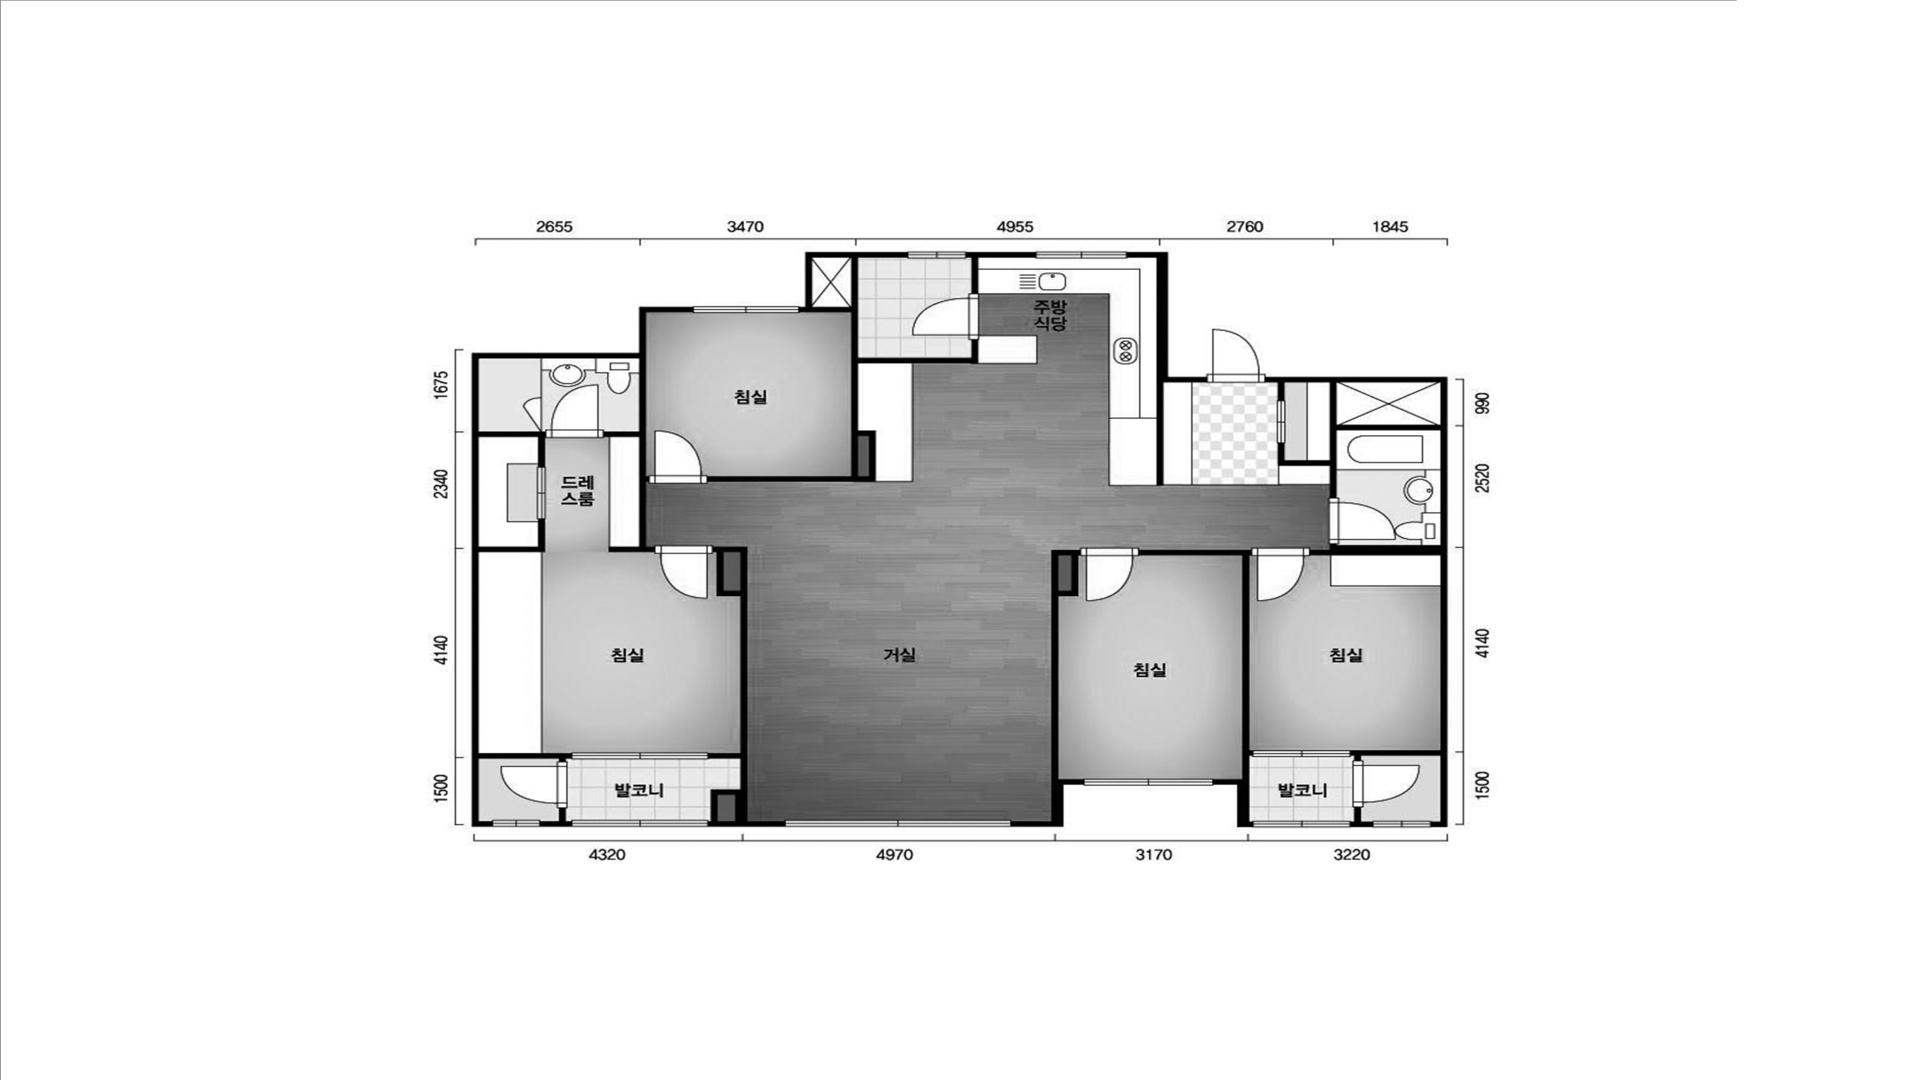background: (0, 0, 1920, 1080)
door: (545, 384, 604, 439), (1251, 547, 1311, 603), (1080, 547, 1139, 603), (655, 545, 713, 600), (649, 430, 708, 484), (1207, 328, 1266, 382), (1329, 497, 1396, 543), (1353, 761, 1420, 807), (500, 762, 567, 808), (911, 293, 978, 339), (522, 397, 542, 431), (537, 467, 546, 518)
wall: (472, 307, 694, 827), (1266, 377, 1448, 827), (708, 257, 978, 481), (1138, 550, 1253, 779), (1278, 382, 1441, 497), (708, 547, 748, 822), (1126, 252, 1207, 382), (604, 357, 655, 553), (1051, 550, 1080, 779), (799, 252, 909, 313), (1010, 779, 1084, 827), (479, 431, 546, 467), (479, 518, 546, 553), (1213, 779, 1253, 827), (1309, 543, 1441, 555), (716, 551, 741, 596), (1350, 750, 1441, 761), (479, 753, 572, 762), (1059, 555, 1079, 596), (858, 430, 876, 476), (1156, 382, 1163, 485), (965, 252, 1036, 258), (708, 822, 785, 827), (972, 257, 978, 294), (539, 822, 572, 827), (1278, 382, 1284, 401), (1350, 822, 1373, 827), (1354, 807, 1361, 822), (559, 808, 566, 822)
window: (785, 820, 1011, 827), (572, 752, 708, 760), (572, 820, 708, 827), (1084, 779, 1213, 786), (694, 306, 799, 313), (1253, 750, 1350, 757), (1036, 252, 1126, 258), (1253, 822, 1350, 827), (907, 252, 965, 258), (492, 820, 539, 827), (1373, 822, 1431, 827)
